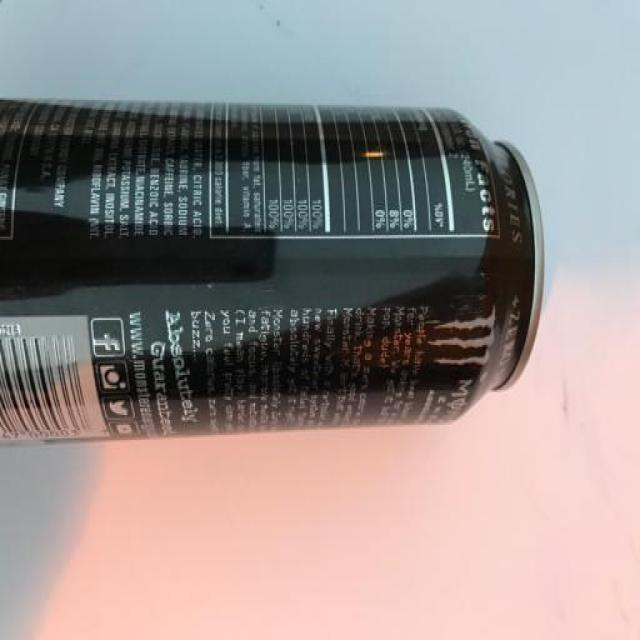Metal: (0, 92, 548, 447)
